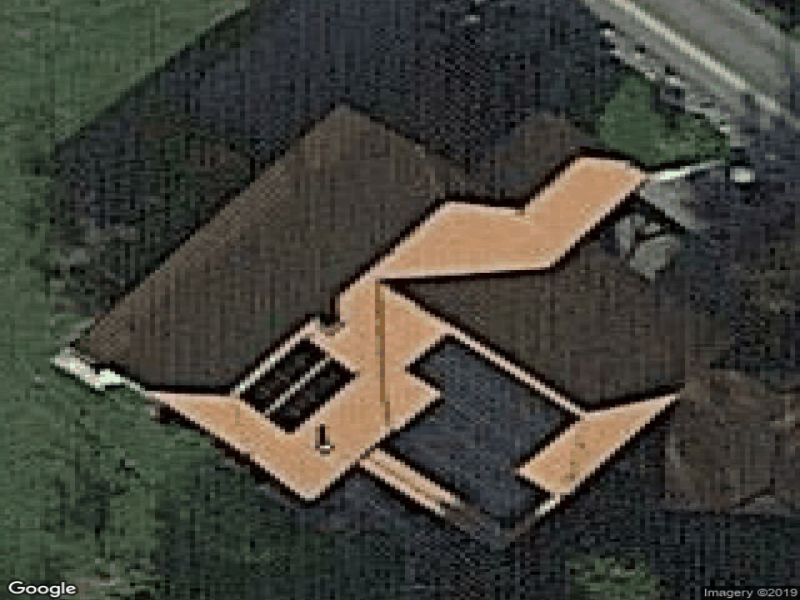pv: (382, 337, 583, 533), (240, 339, 358, 435)
